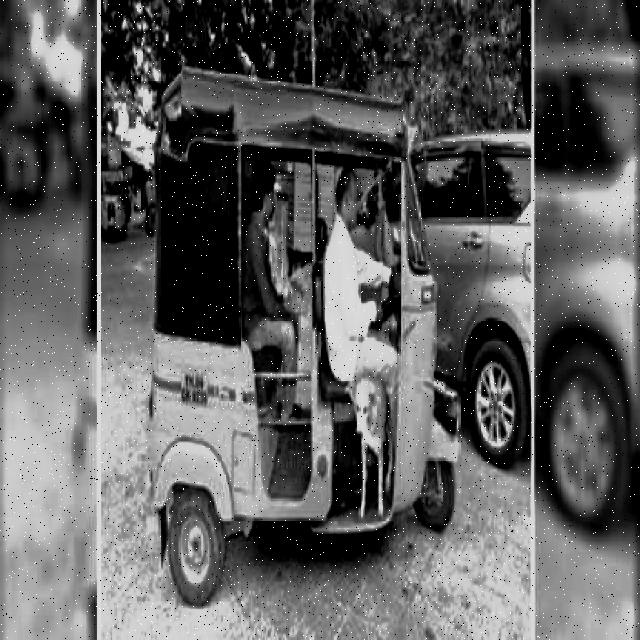Auto-Rickshaw: (150, 60, 454, 611), (97, 163, 131, 241)
